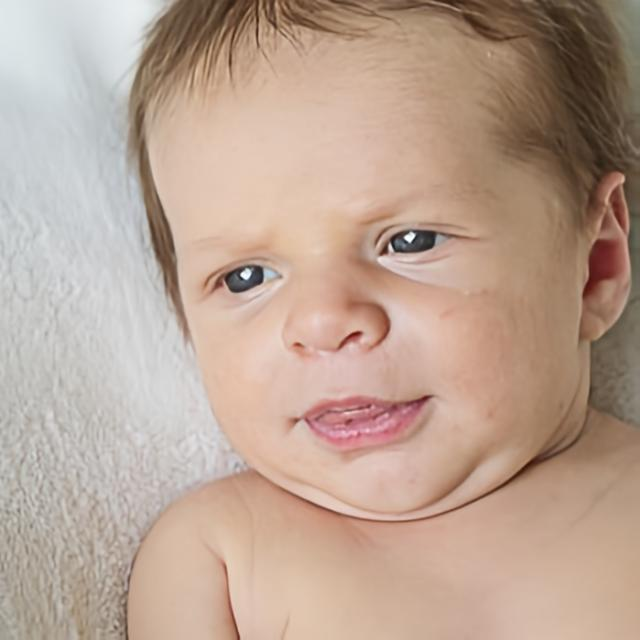content: (142, 0, 578, 516)
